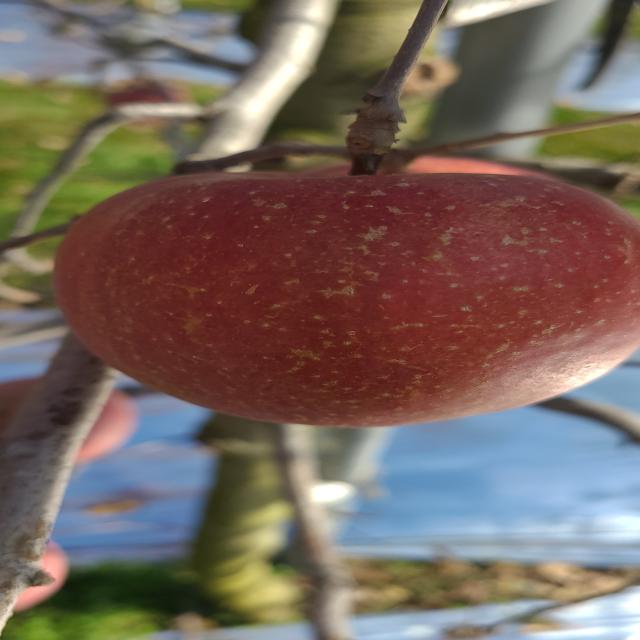fresh: (44, 165, 640, 437)
